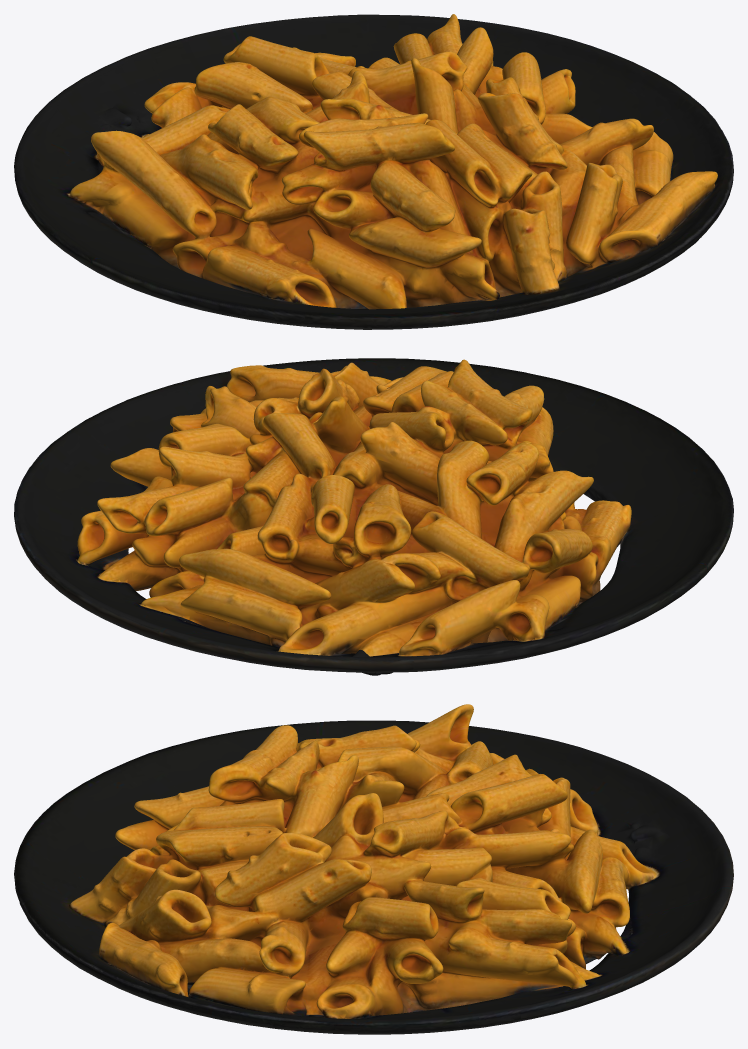
File: yemek.glb
3 views of the same model, one above another, from view 1: azimuth 30°, elevation 25°; view 2: azimuth 150°, elevation 25°; view 3: azimuth 270°, elevation 25° (orthographic).
Visible parts, largest first — view 1: tripo_node_0be6369e-5631-459d-9f18-e2836f95830c; view 2: tripo_node_0be6369e-5631-459d-9f18-e2836f95830c; view 3: tripo_node_0be6369e-5631-459d-9f18-e2836f95830c.
Boxes of the visible parts, bbox=[...] form: tripo_node_0be6369e-5631-459d-9f18-e2836f95830c: bbox=[14, 14, 733, 329]; tripo_node_0be6369e-5631-459d-9f18-e2836f95830c: bbox=[14, 358, 733, 675]; tripo_node_0be6369e-5631-459d-9f18-e2836f95830c: bbox=[14, 704, 733, 1034].
Bounding box in the file's own units: 0.28 × 0.0695 × 0.2803.
1 material, 1 textured.
